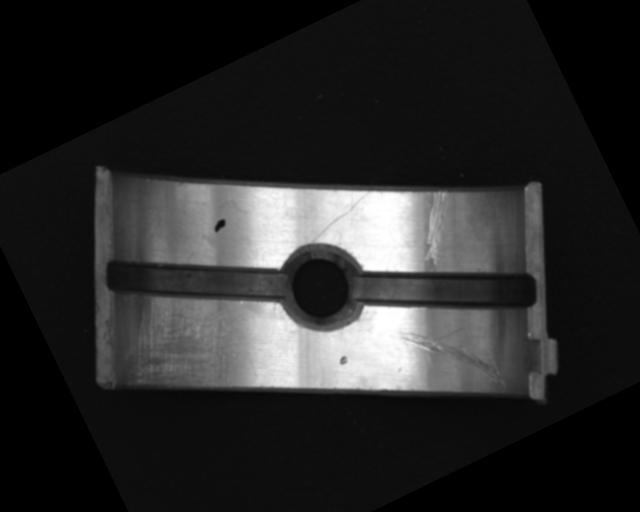blot: (210, 217, 229, 234)
bruise: (337, 353, 350, 366)
gap: (96, 196, 290, 362), (350, 207, 546, 370)
hole: (265, 229, 376, 342)
nick: (398, 302, 509, 421), (398, 185, 475, 273), (301, 188, 383, 244)
scratch: (97, 273, 259, 435)
